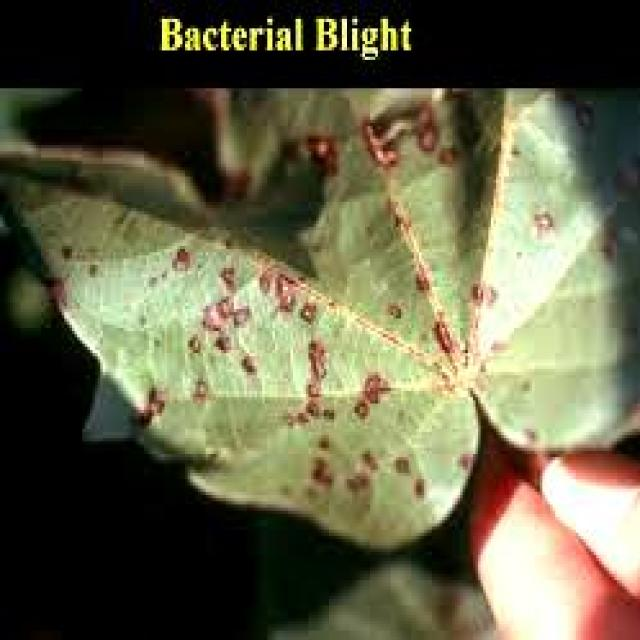Bacterial Blight: (123, 169, 442, 481)
